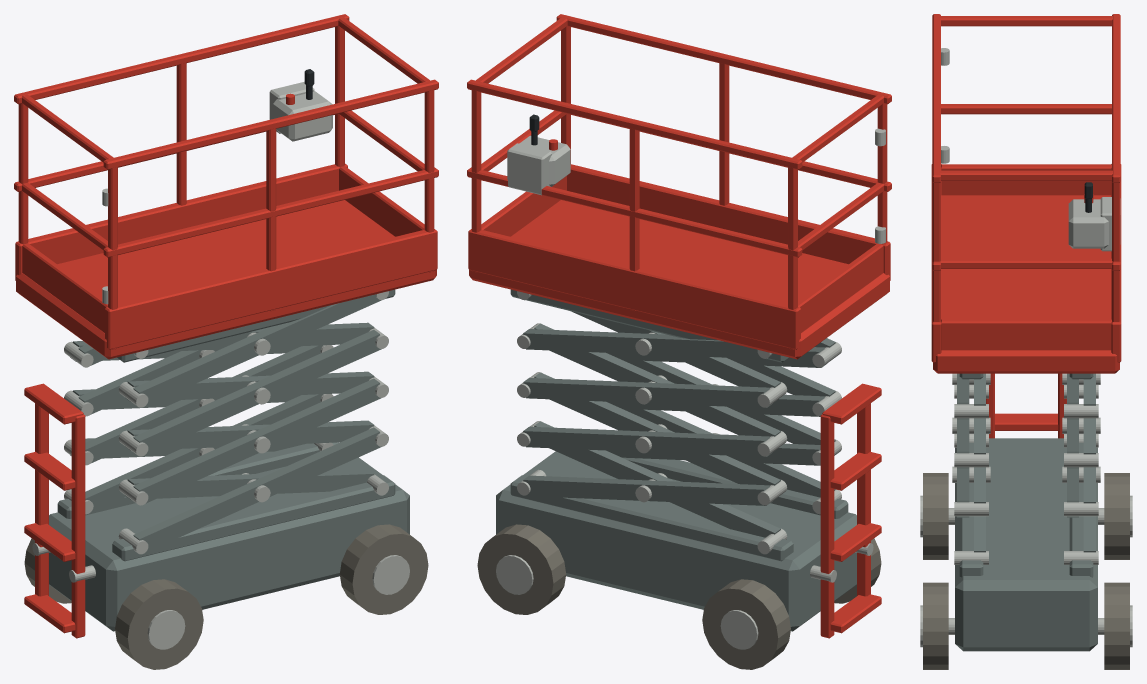
File: full.glb
3 views of the same model, side by side, from view 1: azimuth 30°, elevation 25°; view 2: azimuth 150°, elevation 25°; view 3: azimuth 270°, elevation 25° (orthographic).
Visible parts, largest first — view 1: Closed generic vehicle chassis, Raised platform deck, Side toe board -1, Side toe board 1, Scissor A -0.3 0, Scissor A -0.3 1, Scissor A -0.3 2, Wheel -0.71 -1, Wheel 0.71 -1, Lower guide -0.3, Scissor A -0.3 3, Side rail -1 3.09 (+34 smaller); view 2: Closed generic vehicle chassis, Raised platform deck, Side toe board 1, Side toe board -1, Lower guide 0.3, Wheel -0.71 1, Wheel 0.71 1, Scissor B 0.3 0, Scissor B 0.3 1, Scissor B 0.3 2, Scissor B 0.3 3, Side rail 1 3.09 (+37 smaller); view 3: Closed generic vehicle chassis, Raised platform deck, End toe board 1.0, End toe board -1.0, Wheel 0.71 -1, Wheel 0.71 1, Wheel -0.71 -1, Wheel -0.71 1, End rail 1.0 3.09, End rail -1.0 3.09, End rail 1.0 2.56, End rail -1.0 2.56 (+35 smaller).
Boxes of the visible parts, x1=… form: Closed generic vehicle chassis: x1=49, y1=457, x2=409, y2=631; Raised platform deck: x1=16, y1=200, x2=436, y2=359; Side toe board -1: x1=105, y1=229, x2=437, y2=349; Side toe board 1: x1=15, y1=163, x2=347, y2=280; Scissor A -0.3 0: x1=133, y1=427, x2=381, y2=552; Scissor A -0.3 1: x1=133, y1=378, x2=381, y2=503; Scissor A -0.3 2: x1=133, y1=330, x2=381, y2=454; Wheel -0.71 -1: x1=115, y1=579, x2=203, y2=669; Wheel 0.71 -1: x1=339, y1=524, x2=428, y2=614; Lower guide -0.3: x1=112, y1=475, x2=395, y2=561; Scissor A -0.3 3: x1=133, y1=294, x2=381, y2=405; Side rail -1 3.09: x1=103, y1=79, x2=438, y2=169; Closed generic vehicle chassis: x1=496, y1=451, x2=856, y2=631; Raised platform deck: x1=469, y1=200, x2=889, y2=359; Side toe board 1: x1=468, y1=229, x2=800, y2=349; Side toe board -1: x1=567, y1=164, x2=890, y2=280; Lower guide 0.3: x1=510, y1=475, x2=793, y2=561; Wheel -0.71 1: x1=702, y1=579, x2=790, y2=669; Wheel 0.71 1: x1=477, y1=524, x2=566, y2=614; Scissor B 0.3 0: x1=523, y1=475, x2=772, y2=505; Scissor B 0.3 1: x1=523, y1=426, x2=772, y2=456; Scissor B 0.3 2: x1=523, y1=377, x2=772, y2=408; Scissor B 0.3 3: x1=523, y1=329, x2=767, y2=359; Side rail 1 3.09: x1=467, y1=79, x2=802, y2=169; Closed generic vehicle chassis: x1=955, y1=438, x2=1097, y2=651; Raised platform deck: x1=933, y1=195, x2=1119, y2=373; End toe board 1.0: x1=941, y1=319, x2=1111, y2=350; End toe board -1.0: x1=941, y1=164, x2=1111, y2=195; Wheel 0.71 -1: x1=923, y1=582, x2=948, y2=669; Wheel 0.71 1: x1=1104, y1=582, x2=1129, y2=669; Wheel -0.71 -1: x1=923, y1=473, x2=948, y2=559; Wheel -0.71 1: x1=1104, y1=473, x2=1129, y2=559; End rail 1.0 3.09: x1=940, y1=170, x2=1112, y2=180; End rail -1.0 3.09: x1=940, y1=16, x2=1112, y2=26; End rail 1.0 2.56: x1=940, y1=258, x2=1112, y2=268; End rail -1.0 2.56: x1=941, y1=104, x2=1111, y2=114.
Bounding box in the file's own units: 2.2 × 3.11 × 1.16.
